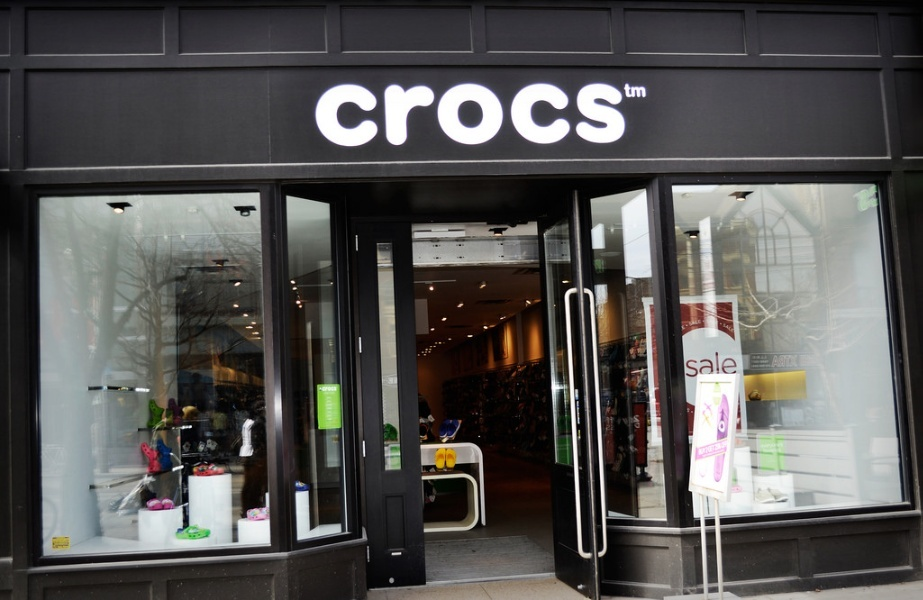text: (321, 80, 336, 153), (337, 80, 352, 153), (353, 80, 368, 153), (369, 80, 384, 153), (385, 80, 400, 153), (401, 80, 416, 153), (417, 80, 432, 153), (433, 80, 448, 153), (449, 80, 464, 153), (465, 80, 480, 153), (481, 80, 496, 153), (497, 80, 512, 153), (513, 80, 528, 153), (529, 80, 544, 153), (545, 80, 560, 153), (561, 80, 576, 153), (577, 80, 592, 153), (593, 80, 608, 153), (609, 80, 624, 153), (313, 80, 320, 153), (865, 182, 880, 213), (625, 80, 631, 153), (689, 351, 704, 379), (705, 351, 720, 379), (721, 351, 736, 379), (625, 82, 640, 102), (705, 439, 720, 455), (785, 353, 800, 369), (801, 353, 816, 369), (857, 182, 864, 213), (753, 355, 768, 369), (772, 353, 784, 369), (723, 321, 736, 335), (641, 82, 650, 102), (625, 415, 641, 424), (689, 318, 702, 328), (721, 439, 729, 455), (321, 385, 336, 393), (697, 439, 704, 455), (817, 353, 824, 369), (769, 448, 783, 454), (769, 443, 785, 448), (881, 182, 883, 213), (686, 351, 688, 379), (634, 420, 640, 429), (769, 355, 772, 369), (622, 82, 624, 102), (761, 443, 768, 448), (763, 448, 768, 454), (737, 351, 738, 379), (686, 318, 688, 328), (337, 385, 339, 393)
